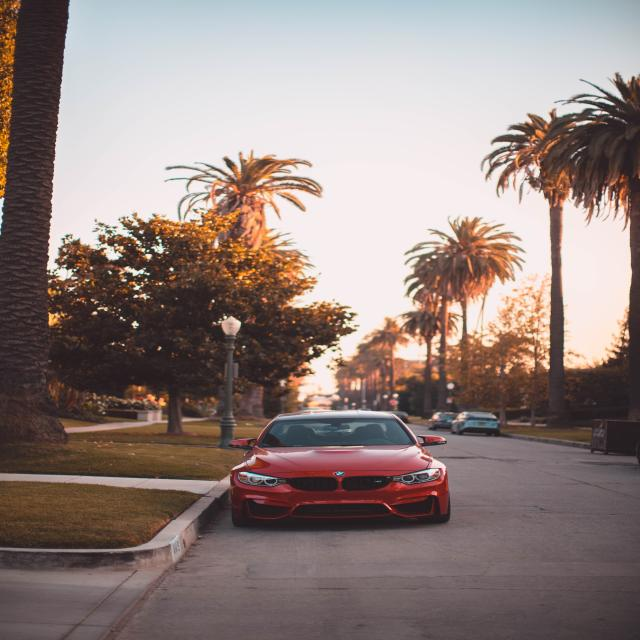car: (227, 410, 453, 526), (450, 410, 501, 437), (427, 411, 461, 430)
